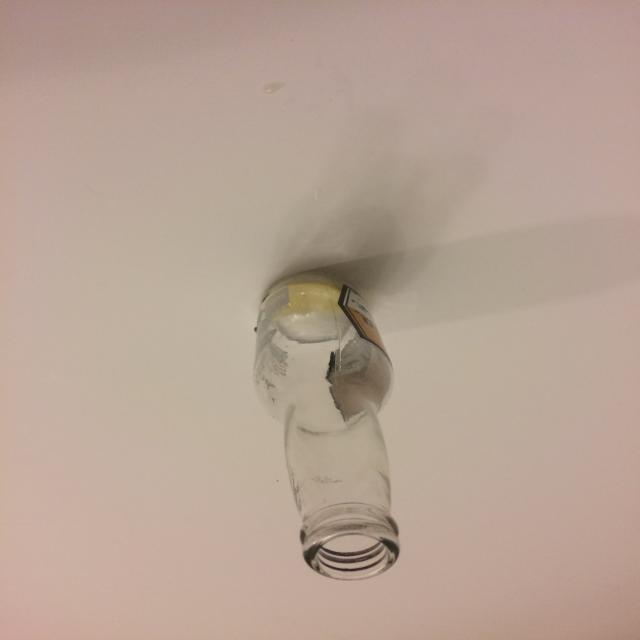glass: (250, 272, 404, 582)
